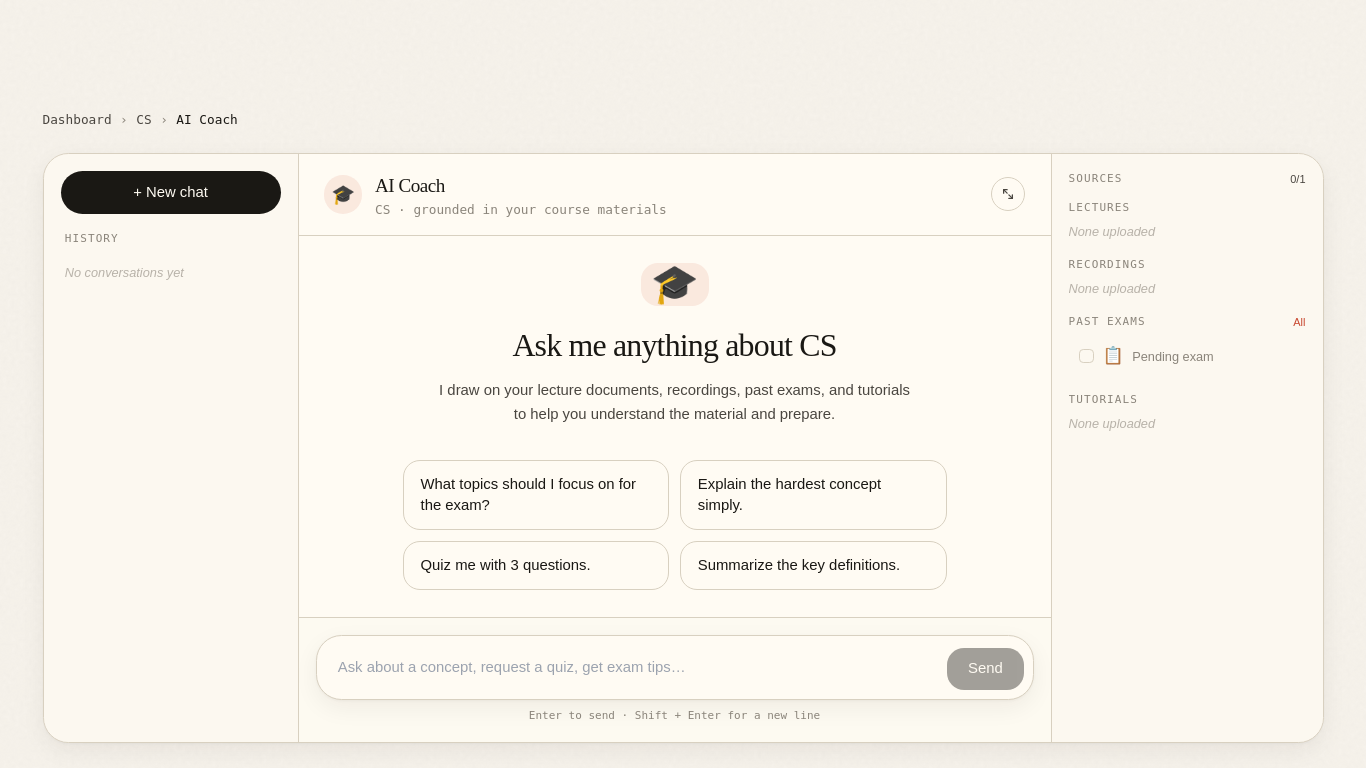
Test: tutor request ownership › keeps a real pending tutor request alive through an unchanged supporting status refresh
Expected: the button "📋 Pending exam" is shown, [1068,337,1306,375]
Click the button "Explain the hardest concept simply.".
click(790, 484)  # box [680,460,946,530]
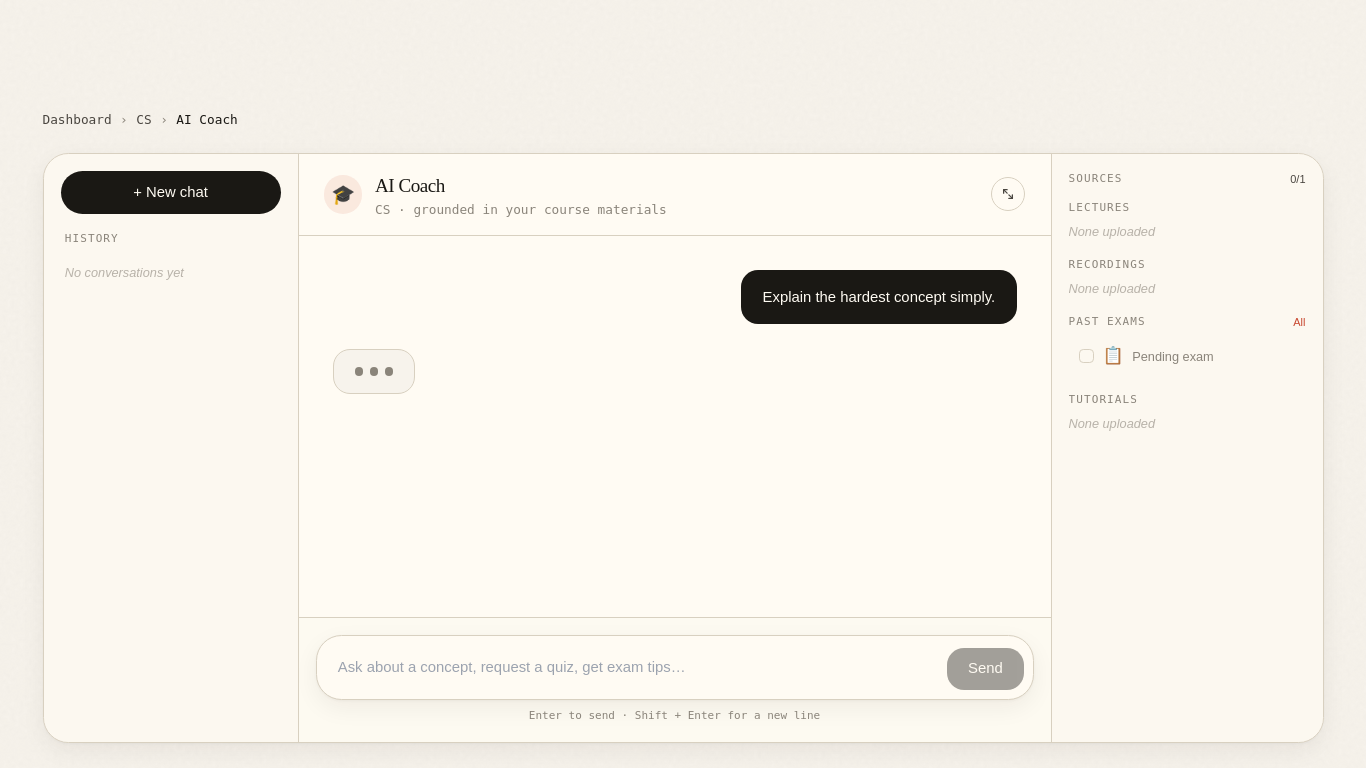
Click the button "📋 Pending exam".
click(1187, 356)  # box [1068,337,1306,375]
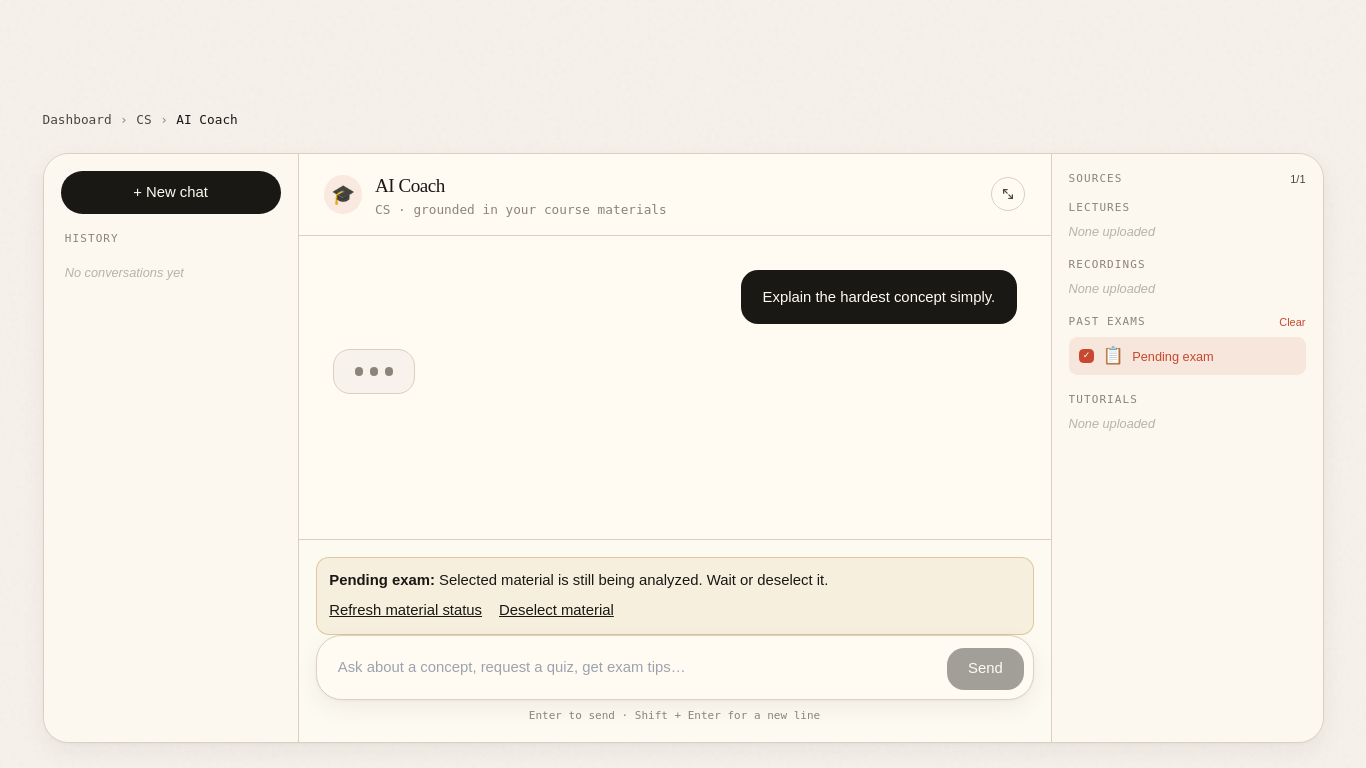
Click the button "Refresh material status".
click(406, 611)  # box [329,600,482,621]
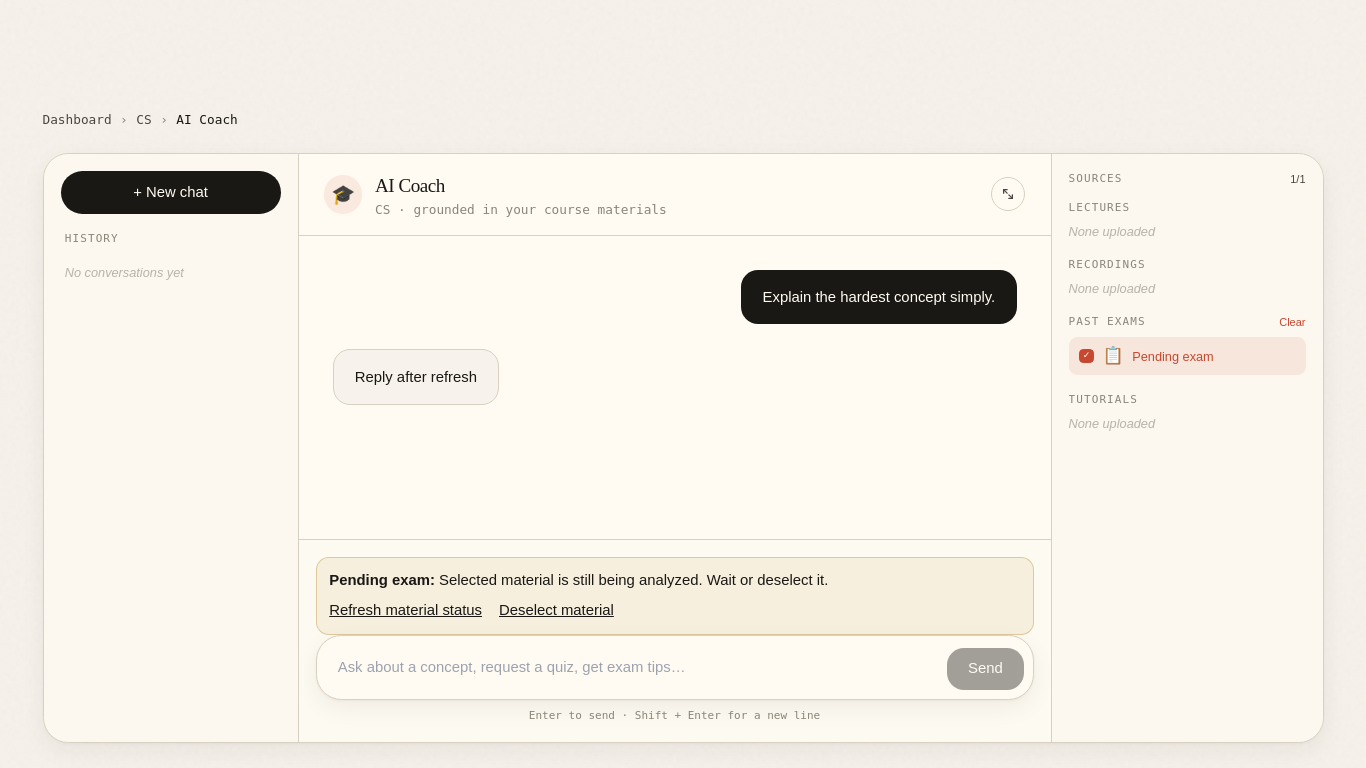
Expected: the text "Reply after refresh" is shown, [355,365,477,389]
